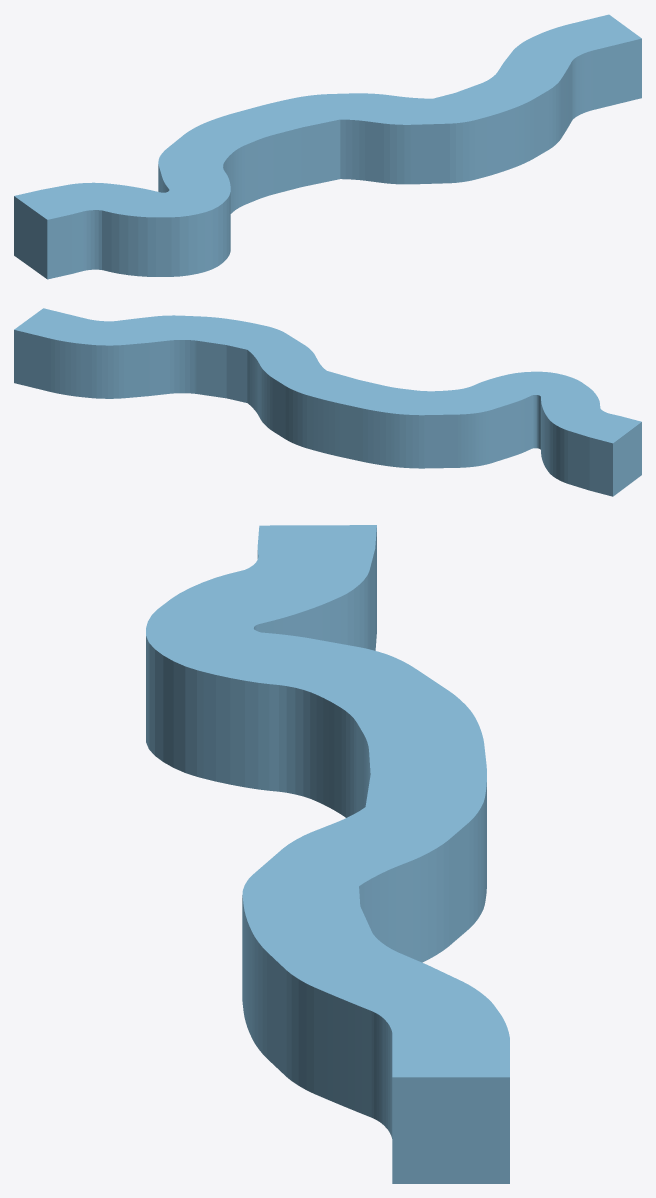
The model's file is dereModel1.fbx.
The picture shows the model from 3 angles, top to bottom: view 1: azimuth 30°, elevation 25°; view 2: azimuth 150°, elevation 25°; view 3: azimuth 270°, elevation 25°; orthographic projection. The views are drawn at different scales.
Visible parts, largest first — view 1: Cube.001; view 2: Cube.001; view 3: Cube.001.
Part boxes in pixels (left/top/right/bottom): Cube.001: left=14, top=14, right=641, bottom=279; Cube.001: left=14, top=308, right=641, bottom=496; Cube.001: left=146, top=525, right=509, bottom=1183.
Size of the model in its own units: 22.2 by 2 by 6.19.
